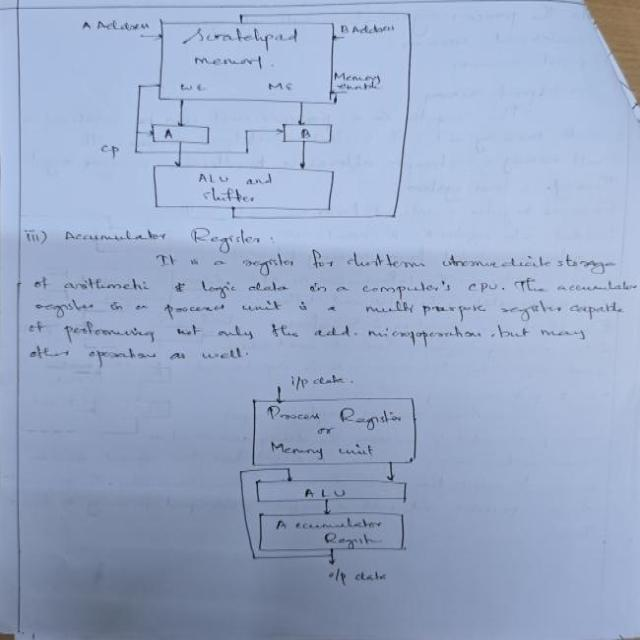Figure Detection - v3 Dataset Version2: (57, 7, 459, 226), (209, 364, 458, 602)
